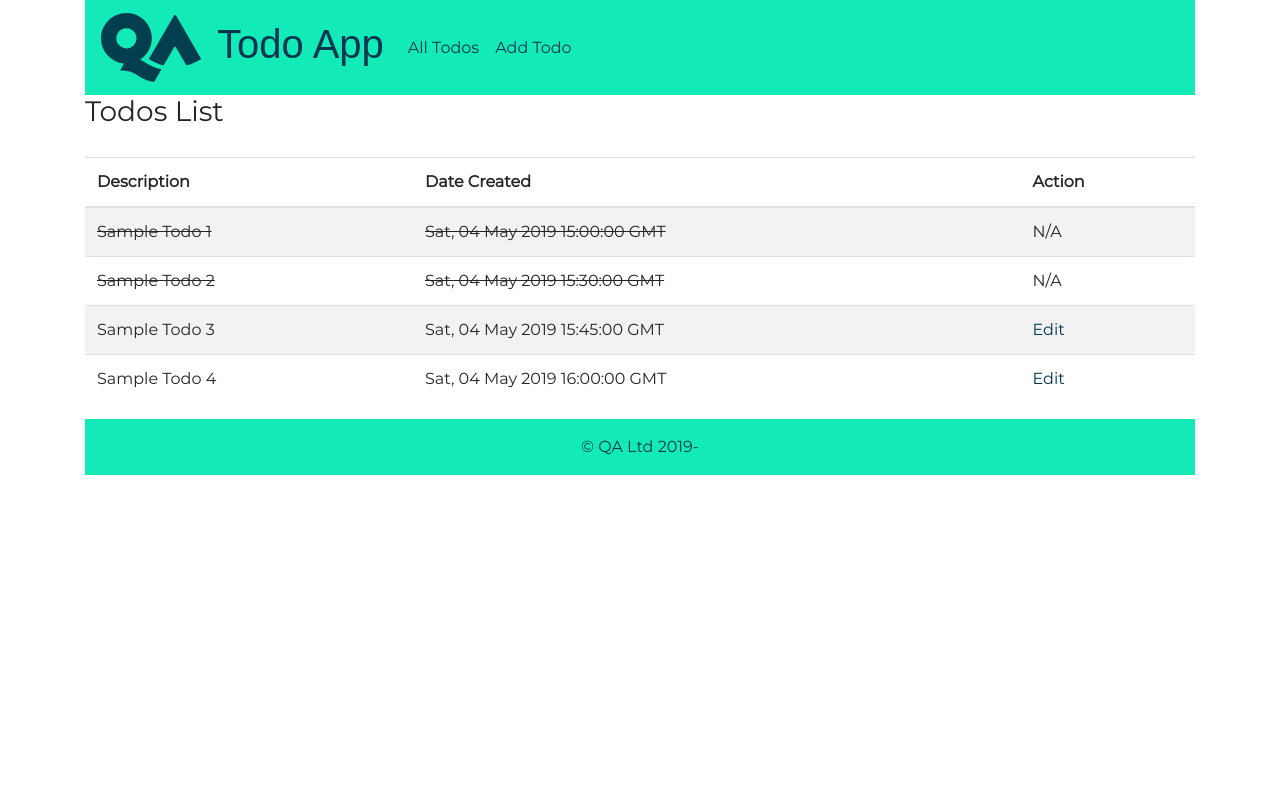
Conditional renders dependent on result of data calls › should close the modal for a post error when the button to close it is clicked
Click the link with test id "addTodoLink": (533, 47) [495, 38, 572, 57]
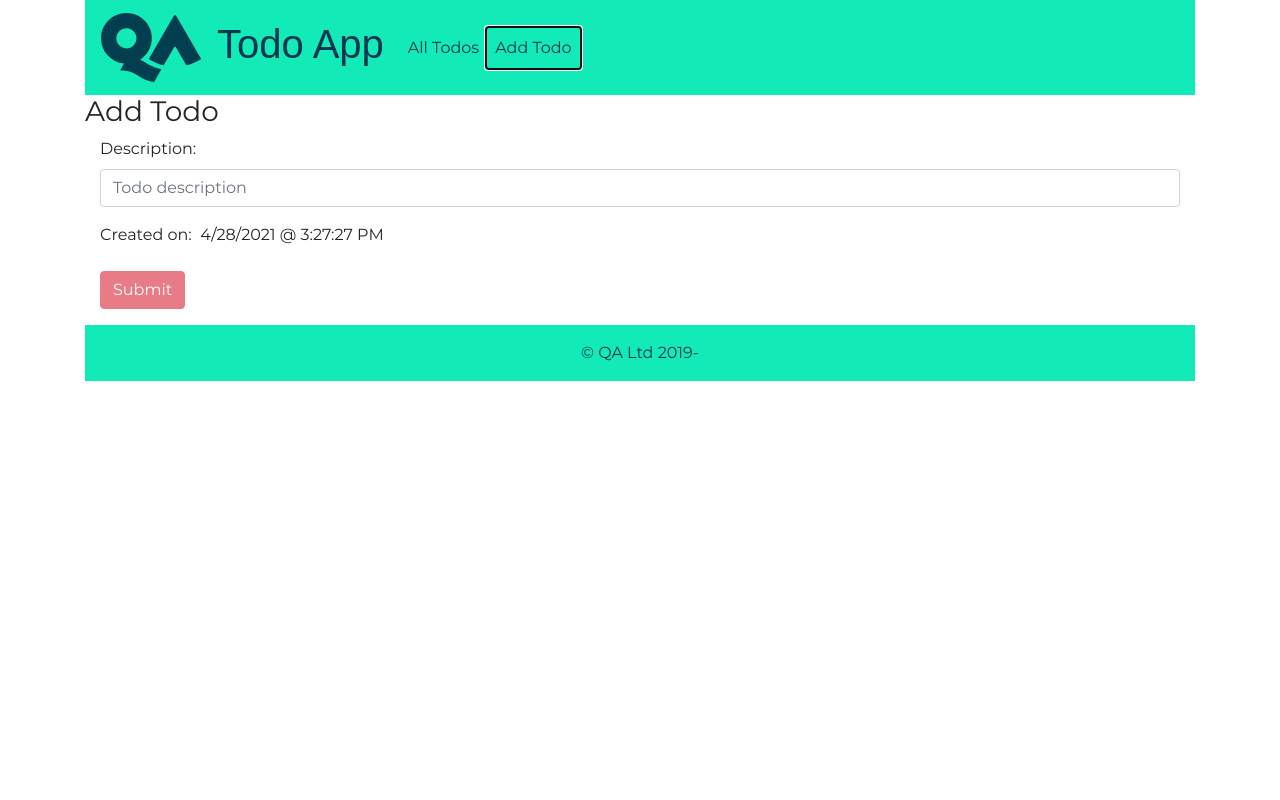
In the field with placeholder "Todo description": (640, 188) [100, 169, 1180, 207], type "Sample Todo"
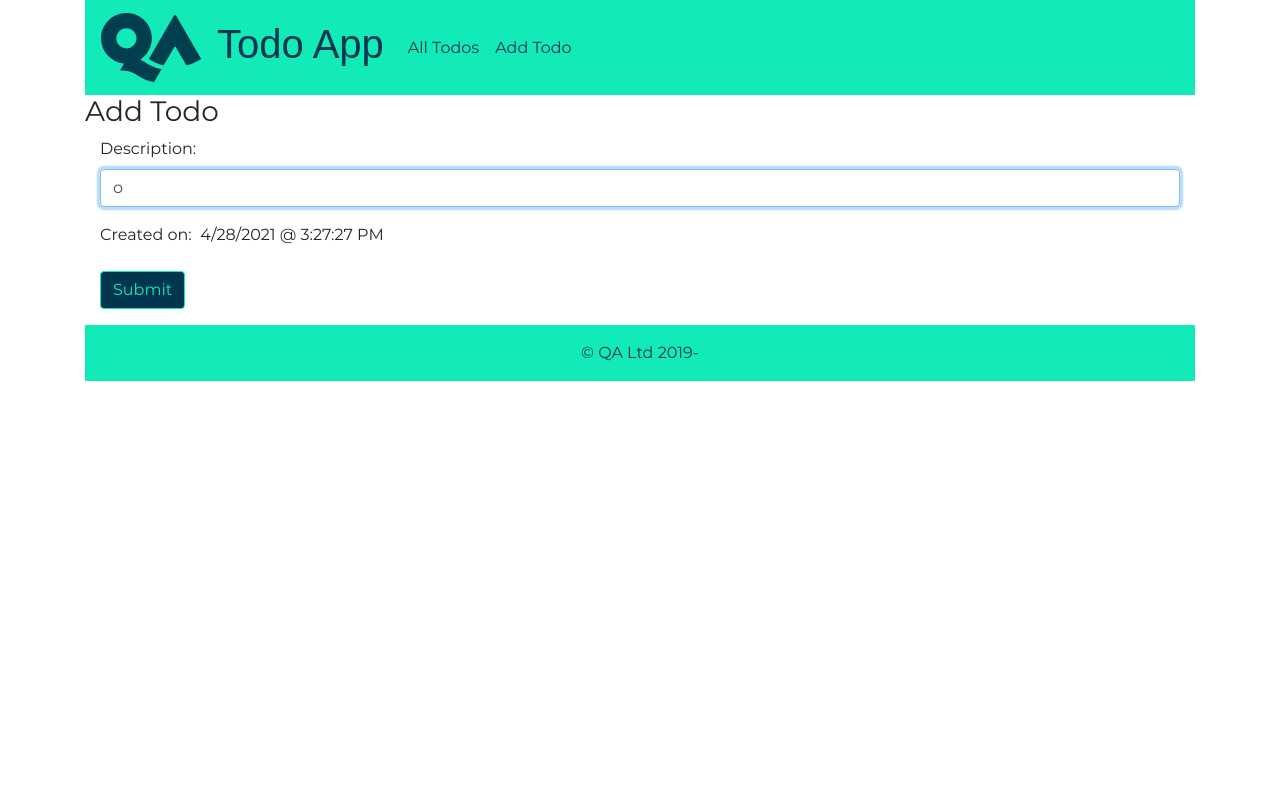
Click the button showing "submit": (143, 290) [100, 271, 185, 309]
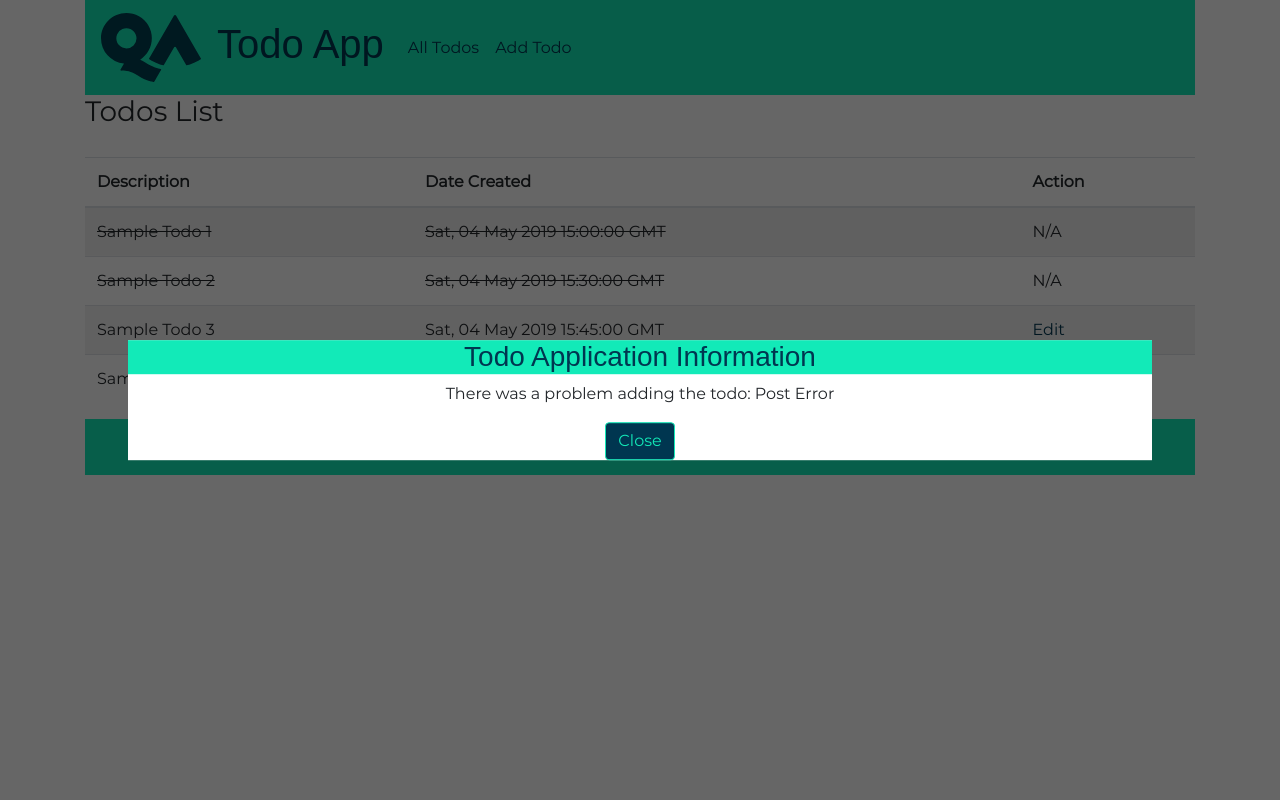
Click the button "Close": (640, 441) [605, 422, 675, 460]
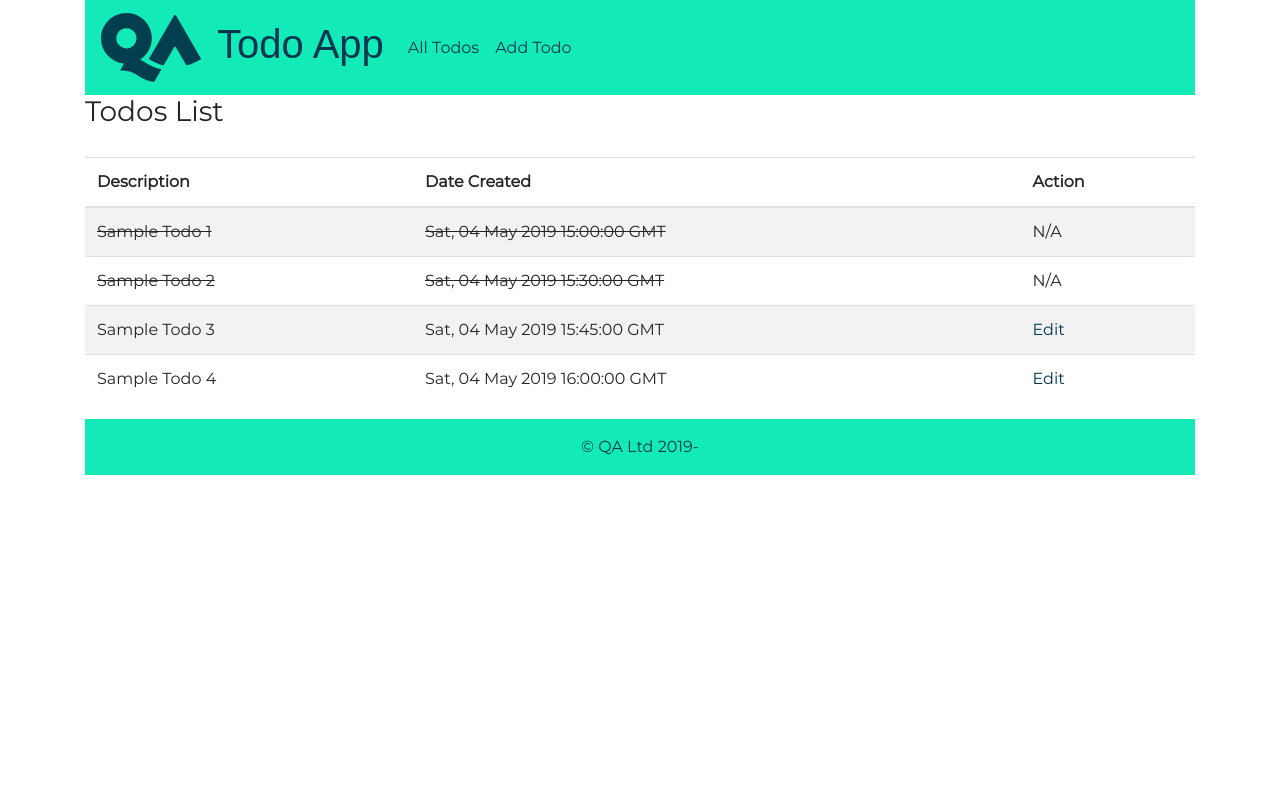
Now the button "Close" is gone
